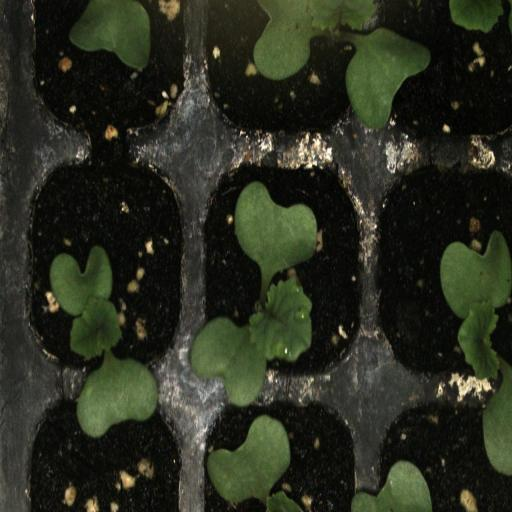Folha: (440, 231, 512, 476), (70, 0, 151, 70), (351, 460, 432, 512), (449, 0, 503, 33)
Germinacao: (12, 137, 197, 389), (197, 152, 368, 388), (371, 150, 512, 390), (204, 0, 373, 150), (196, 391, 367, 512)
